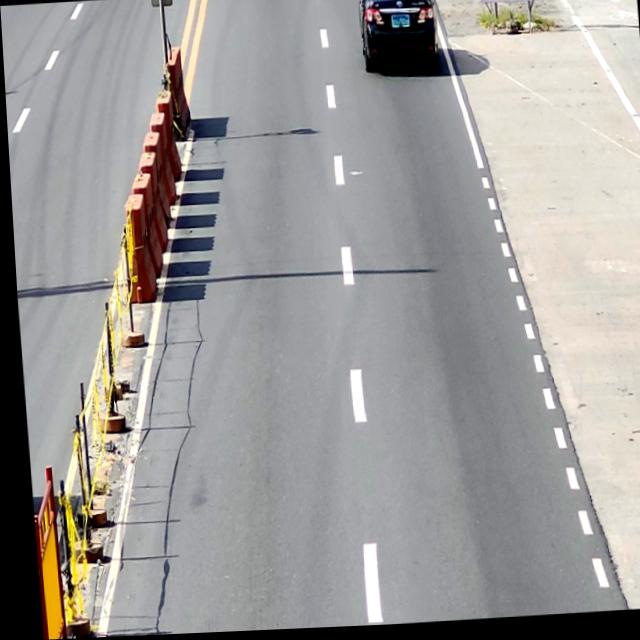Car: (352, 0, 441, 80)
License-Plate: (390, 15, 410, 32)
